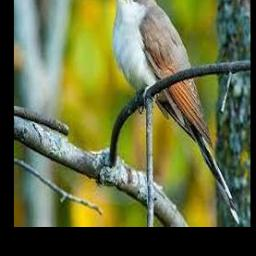Cuckoo: (111, 0, 242, 227)
